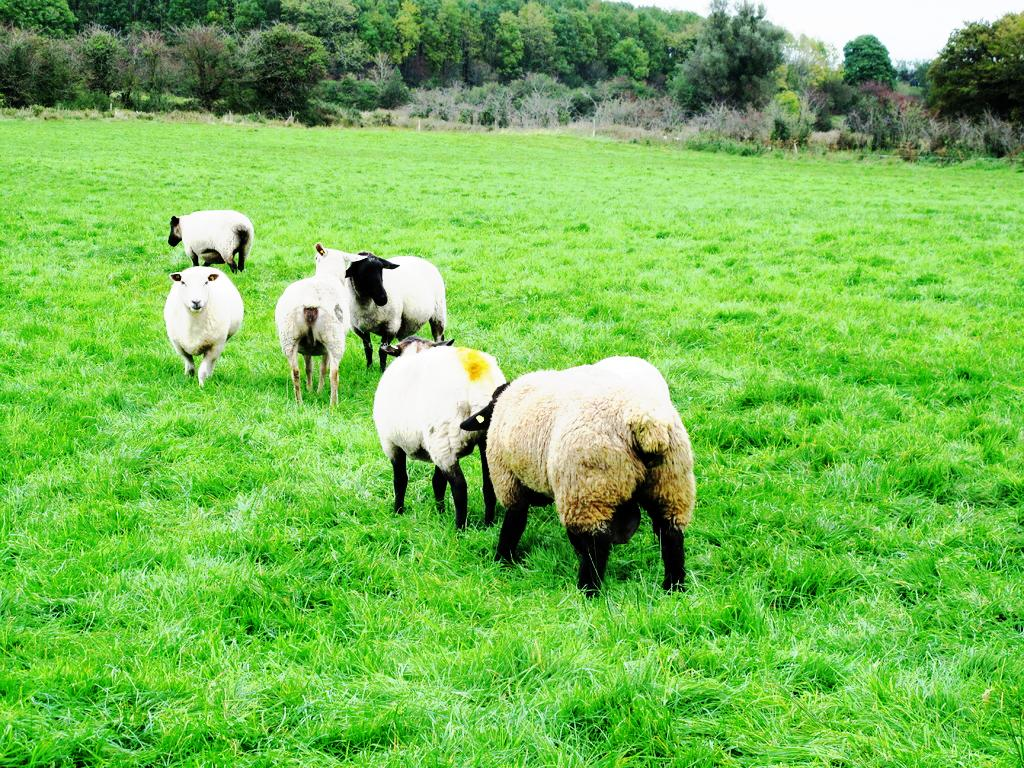Sheep: (469, 350, 687, 596), (376, 342, 505, 534), (270, 241, 364, 407), (344, 248, 444, 373), (160, 267, 244, 383), (169, 208, 256, 276)
